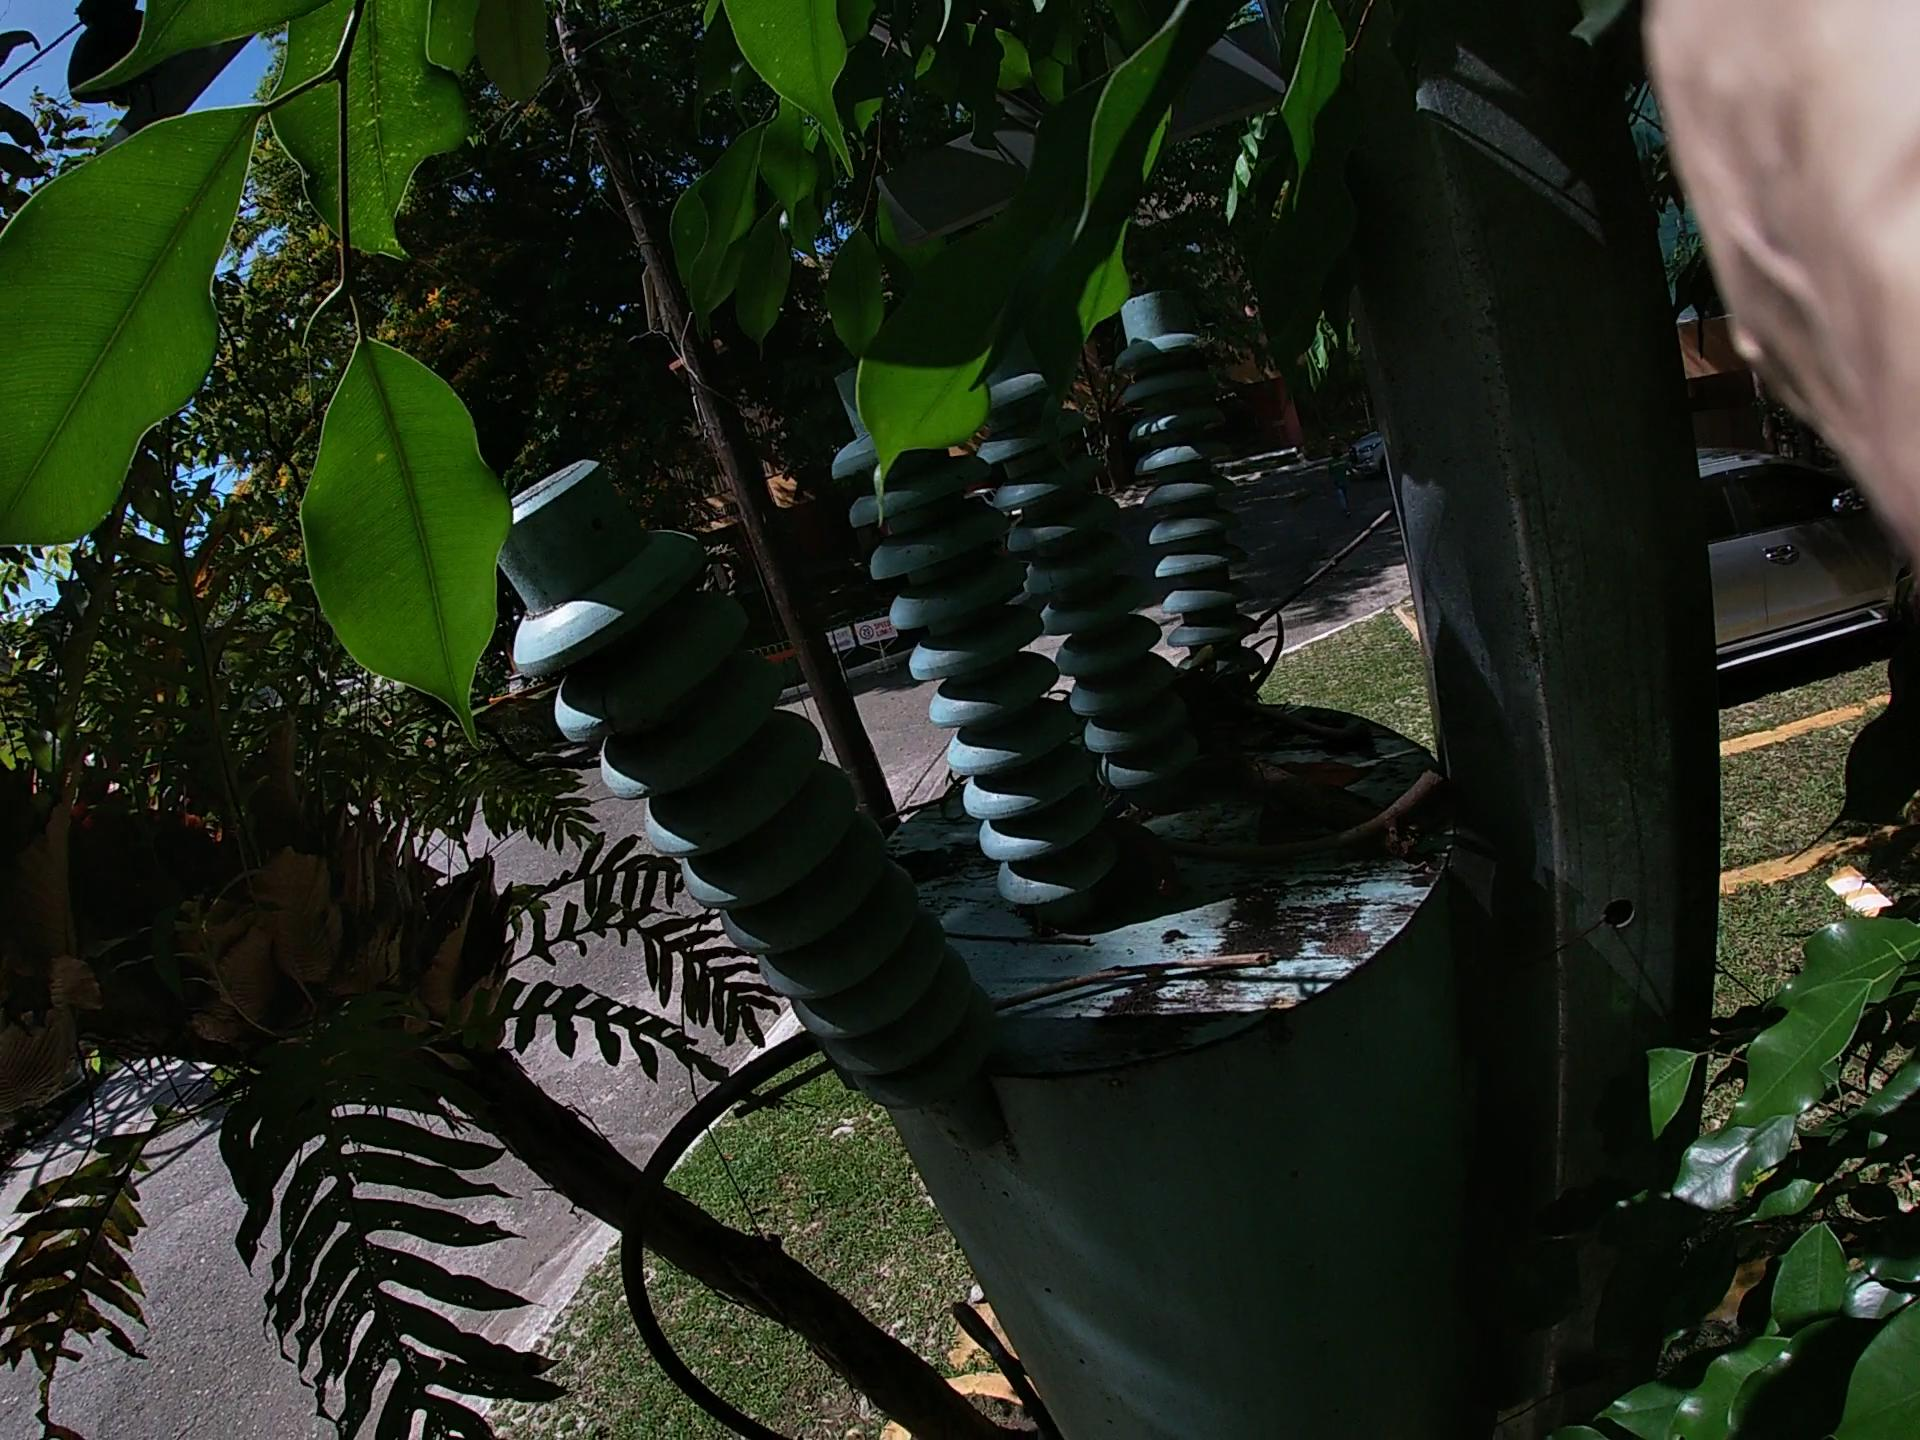leaf: (1231, 722, 1404, 826)
mahogany fruit: (1203, 756, 1385, 855)
tree branch: (390, 504, 1352, 1284), (717, 942, 1279, 1160), (1089, 808, 1468, 880), (1169, 723, 1401, 811)
